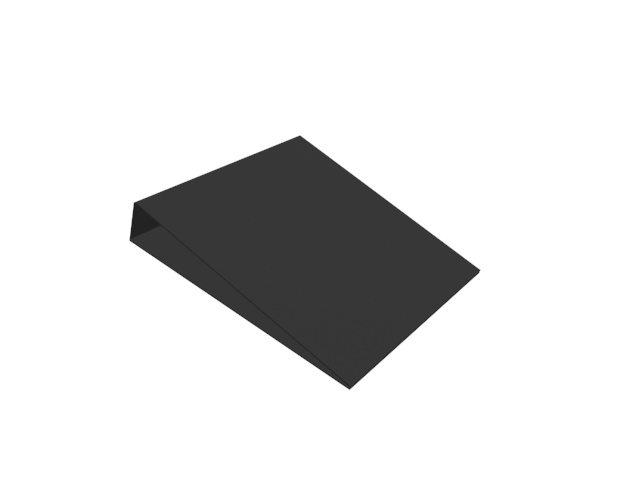ring_binder: (129, 129, 488, 392)
